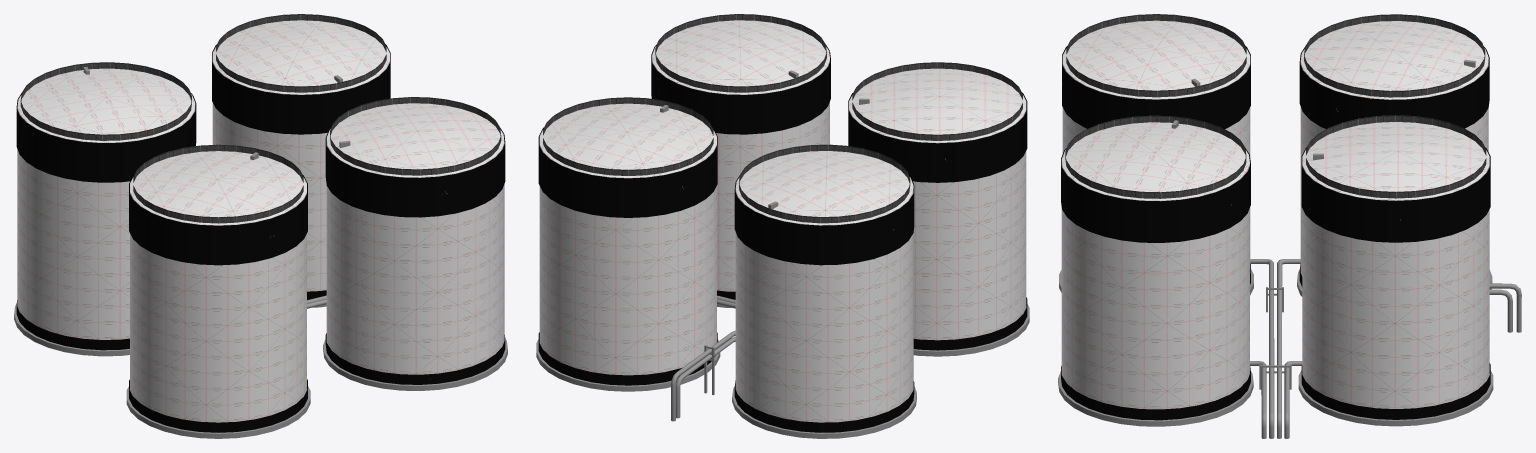
Rendered from fuelsil_01_a.FBX.
3 renders of one model, left to right at view 1: azimuth 30°, elevation 25°; view 2: azimuth 150°, elevation 25°; view 3: azimuth 270°, elevation 25°, orthographic. The views are drawn at different scales.
Parts seen in each view (by area): view 1: sil_01; view 2: sil_01; view 3: sil_01.
Part boxes in pixels (box(x1,y1,x2,y2)): sil_01: box(14, 14, 507, 438); sil_01: box(536, 14, 1029, 438); sil_01: box(1058, 14, 1521, 438).
Size of the model in its own units: 217 by 120 by 216.
